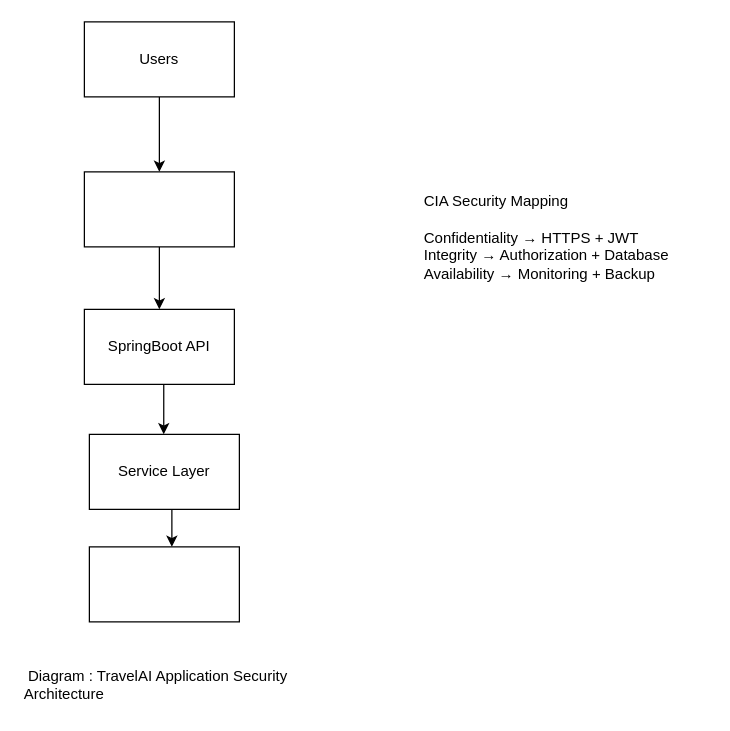
The diagram is 730 pixels wide and 731 high, and some of its shapes have lost their labels. The box of each missing label's shape, as (x1, y1, x2, y2) in pixels:
PostgreSQL database: (88, 546, 239, 622)
React frontend: (83, 171, 234, 247)
